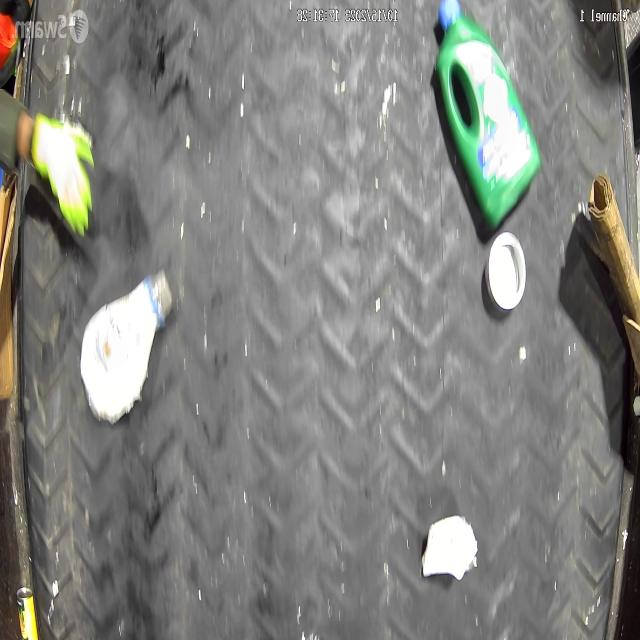can: (477, 227, 535, 318)
non_white_jug: (431, 0, 539, 240)
